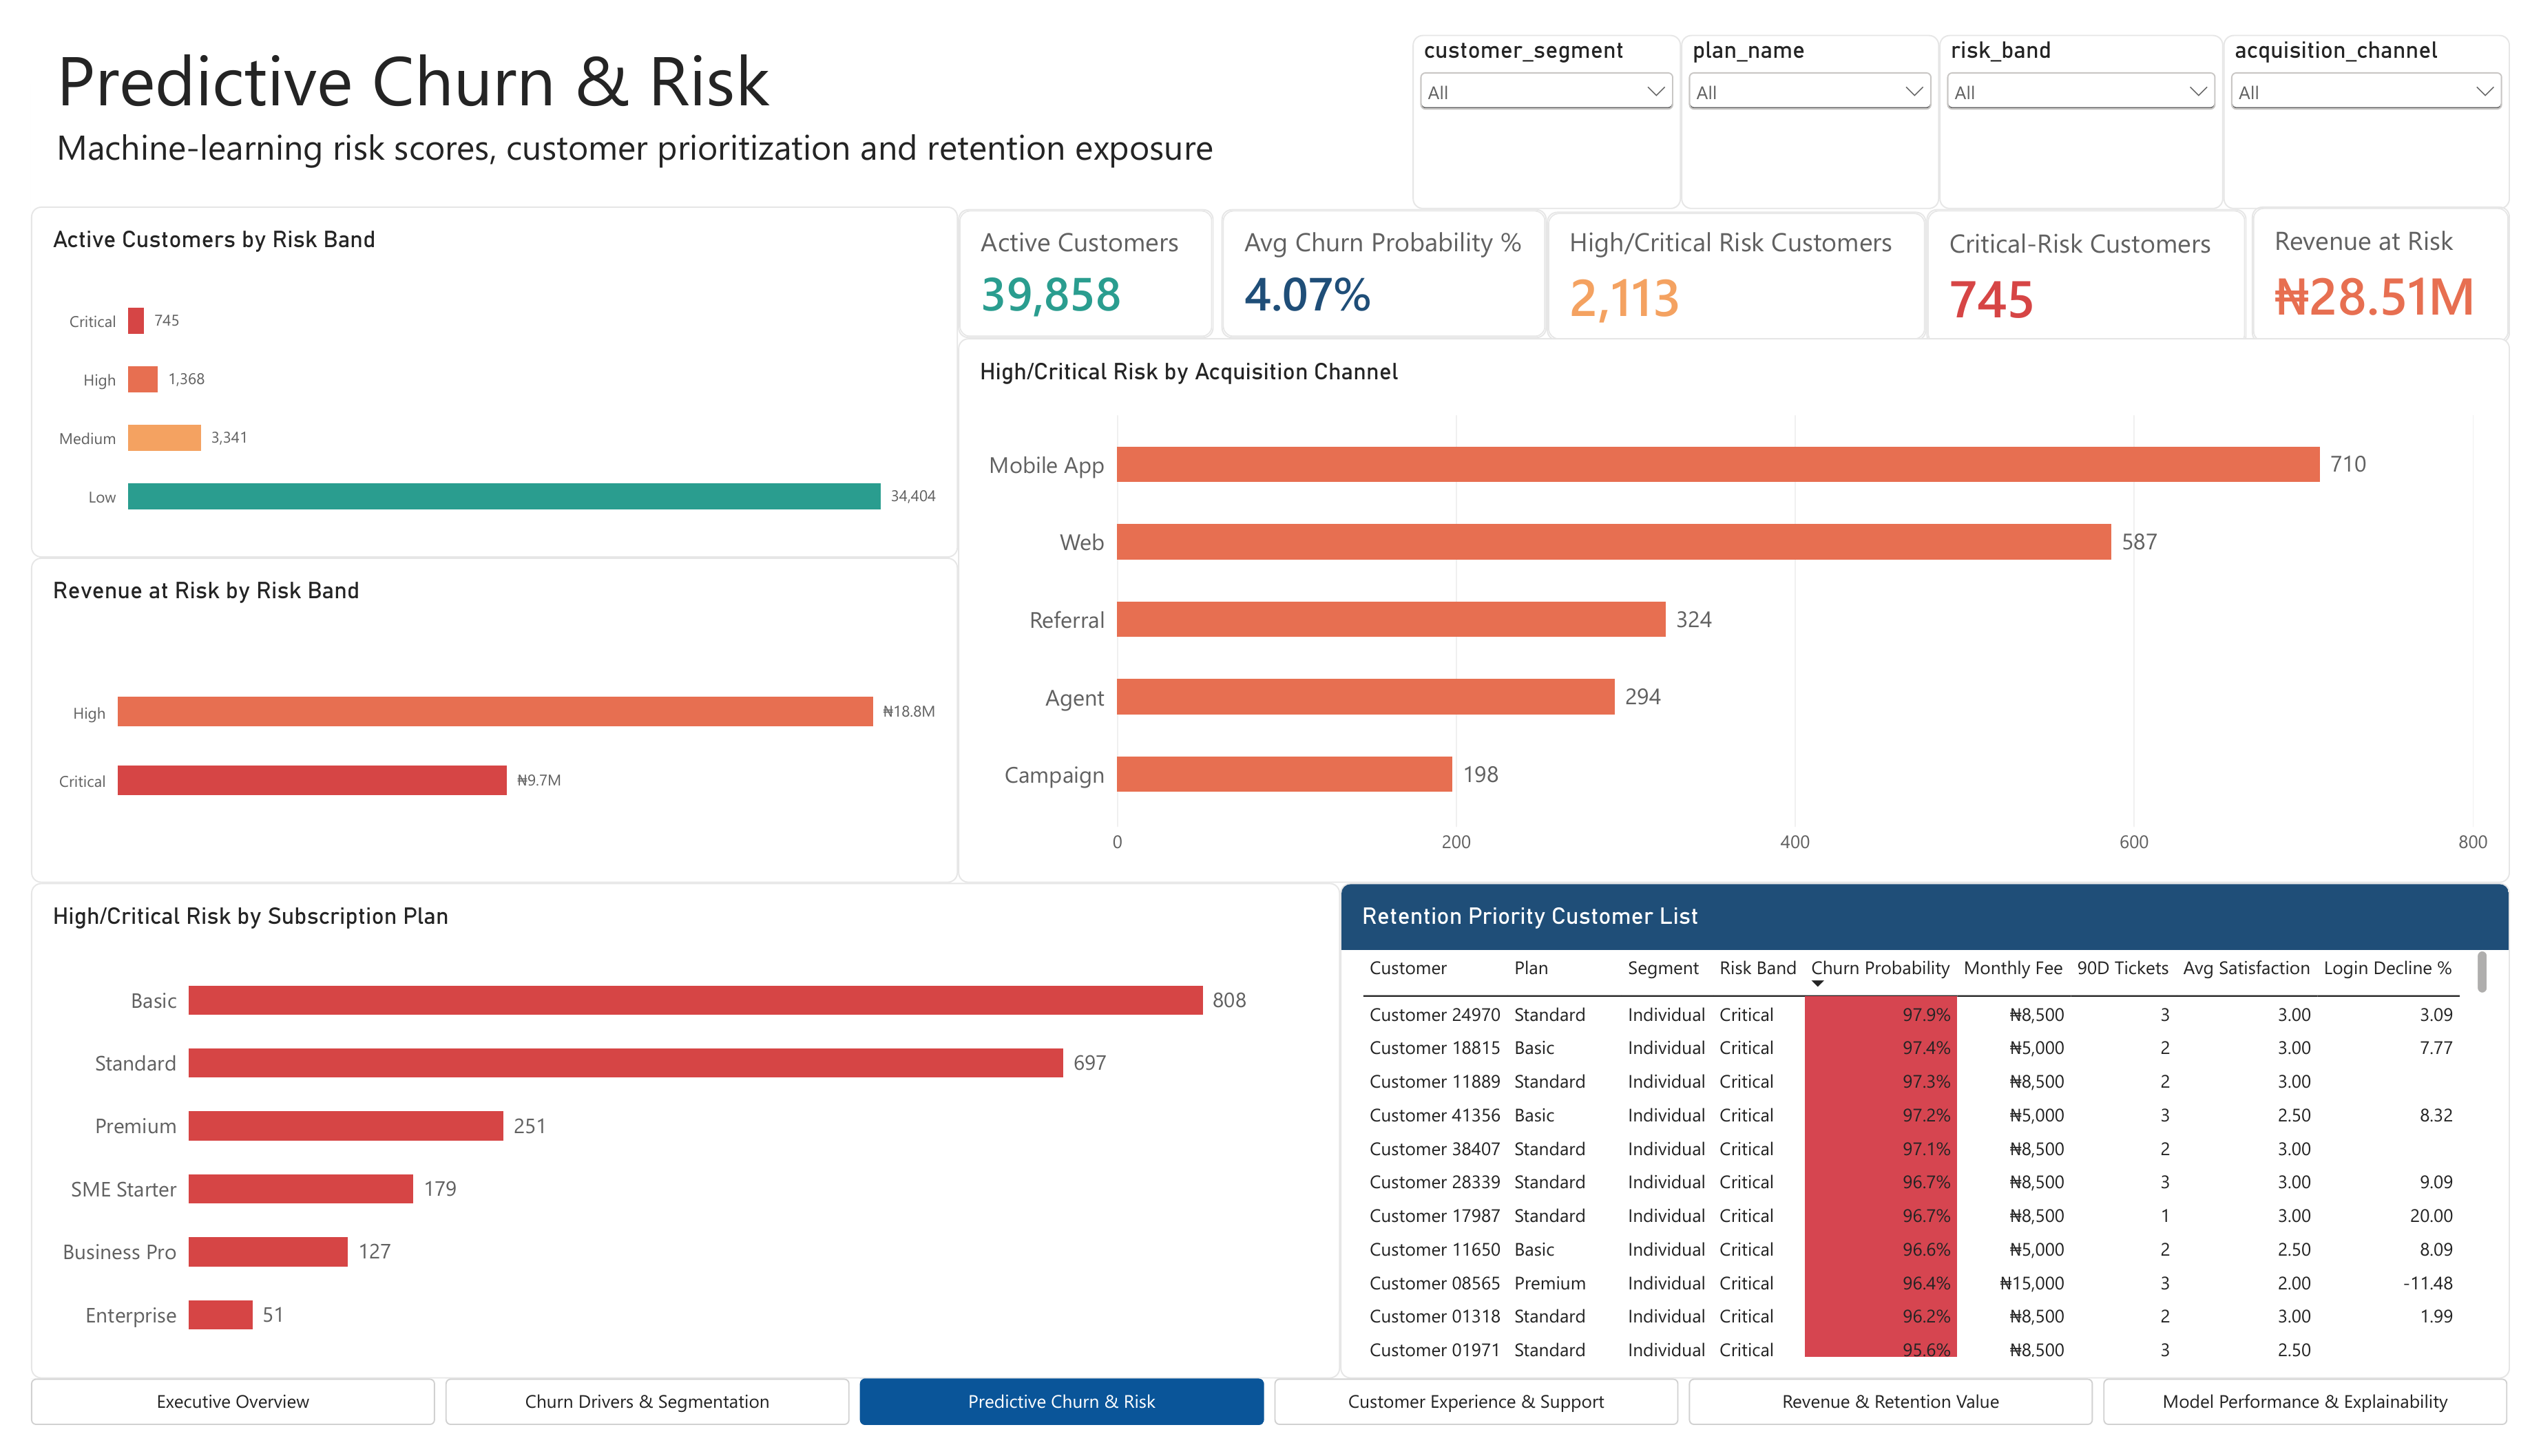

The page's visual inventory and layout, read from the dashboard file:
{"tool":"powerbi","page":{"name":"Predictive Churn & Risk","canvas":[1920,1080],"ordinal":2},"visuals":[{"type":"textbox","box":[20,0,1050,135],"z":0},{"type":"slicer","fields":{"Values":["customer_retention_snapshot.customer_segment"]},"box":[1070,2.5,207.5,135],"z":1000},{"type":"slicer","fields":{"Values":["customer_retention_snapshot.plan_name"]},"box":[1277.5,2.5,200,135],"z":2000},{"type":"slicer","fields":{"Values":["customer_retention_snapshot.risk_band"]},"box":[1477.5,2.5,220,135],"z":3000},{"type":"slicer","fields":{"Values":["customer_retention_snapshot.acquisition_channel"]},"box":[1697.5,2.5,222.5,135],"z":4000},{"type":"cardVisual","fields":{"Data":["Measures (2).Active Customers"]},"box":[718,138,198,100],"z":5000},{"type":"cardVisual","fields":{"Data":["Measures (2).Average Churn Probability %"]},"box":[922,138,252,100],"z":6000},{"type":"cardVisual","fields":{"Data":["Measures (2).Critical-Risk Customers"]},"box":[1468,138,248,106],"z":7000},{"type":"cardVisual","fields":{"Data":["Measures (2).High-Risk Customers"]},"box":[1174,140,294,100],"z":8000},{"type":"cardVisual","fields":{"Data":["Measures (2).High-Risk Monthly Revenue"]},"box":[1720,136,200,106],"z":9000},{"type":"clusteredBarChart","title":"Active Customers by Risk Band","fields":{"Category":["customer_retention_snapshot.risk_band"],"Y":["Measures (2).Total Customers"]},"box":[0,136,718,272],"z":10000},{"type":"clusteredBarChart","title":"Revenue at Risk by Risk Band","fields":{"Category":["customer_retention_snapshot.risk_band"],"Y":["Measures (2).Monthly Recurring Revenue"]},"box":[0,408,718,252],"z":11000},{"type":"clusteredBarChart","title":"High/Critical Risk by Subscription Plan","fields":{"Category":["customer_retention_snapshot.plan_name"],"Y":["Measures (2).Total Customers"]},"box":[0,660,1014,384],"z":12000},{"type":"tableEx","title":"Retention Priority Customer List","fields":{"Values":["customer_retention_snapshot.customer_name","customer_retention_snapshot.plan_name","customer_retention_snapshot.customer_segment","customer_retention_snapshot.risk_band","customer_retention_snapshot.churn_probability","customer_retention_snapshot.monthly_fee","customer_retention_snapshot.recent_90d_tickets","customer_retention_snapshot.recent_90d_avg_satisfaction","customer_retention_snapshot.login_decline_pct"]},"box":[1014,660,906,384],"z":13000},{"type":"clusteredBarChart","title":"High/Critical Risk by Acquisition Channel","fields":{"Category":["customer_retention_snapshot.acquisition_channel"],"Y":["Measures (2).Total Customers"]},"box":[718,238,1202,422],"z":14000},{"type":"pageNavigator","box":[0,1044,1920,36],"z":15000}]}

Visuals, with their boxes in screenshot pixels (x1, y1, x2, y2), scaled from the page's 1920x1080 canvas onto the 2541x1456 screenshot:
textbox: x1=26, y1=0, x2=1416, y2=182
slicer - customer_retention_snapshot.customer_segment: x1=1416, y1=3, x2=1691, y2=185
slicer - customer_retention_snapshot.plan_name: x1=1691, y1=3, x2=1956, y2=185
slicer - customer_retention_snapshot.risk_band: x1=1956, y1=3, x2=2246, y2=185
slicer - customer_retention_snapshot.acquisition_channel: x1=2246, y1=3, x2=2540, y2=185
cardVisual - Measures (2).Active Customers: x1=950, y1=186, x2=1212, y2=321
cardVisual - Measures (2).Average Churn Probability %: x1=1220, y1=186, x2=1554, y2=321
cardVisual - Measures (2).Critical-Risk Customers: x1=1943, y1=186, x2=2271, y2=329
cardVisual - Measures (2).High-Risk Customers: x1=1554, y1=189, x2=1943, y2=324
cardVisual - Measures (2).High-Risk Monthly Revenue: x1=2277, y1=183, x2=2540, y2=326
"Active Customers by Risk Band" clusteredBarChart: x1=0, y1=183, x2=950, y2=550
"Revenue at Risk by Risk Band" clusteredBarChart: x1=0, y1=550, x2=950, y2=889
"High/Critical Risk by Subscription Plan" clusteredBarChart: x1=0, y1=889, x2=1342, y2=1407
"Retention Priority Customer List" tableEx: x1=1342, y1=889, x2=2540, y2=1407
"High/Critical Risk by Acquisition Channel" clusteredBarChart: x1=950, y1=321, x2=2540, y2=889
pageNavigator: x1=0, y1=1407, x2=2540, y2=1455
